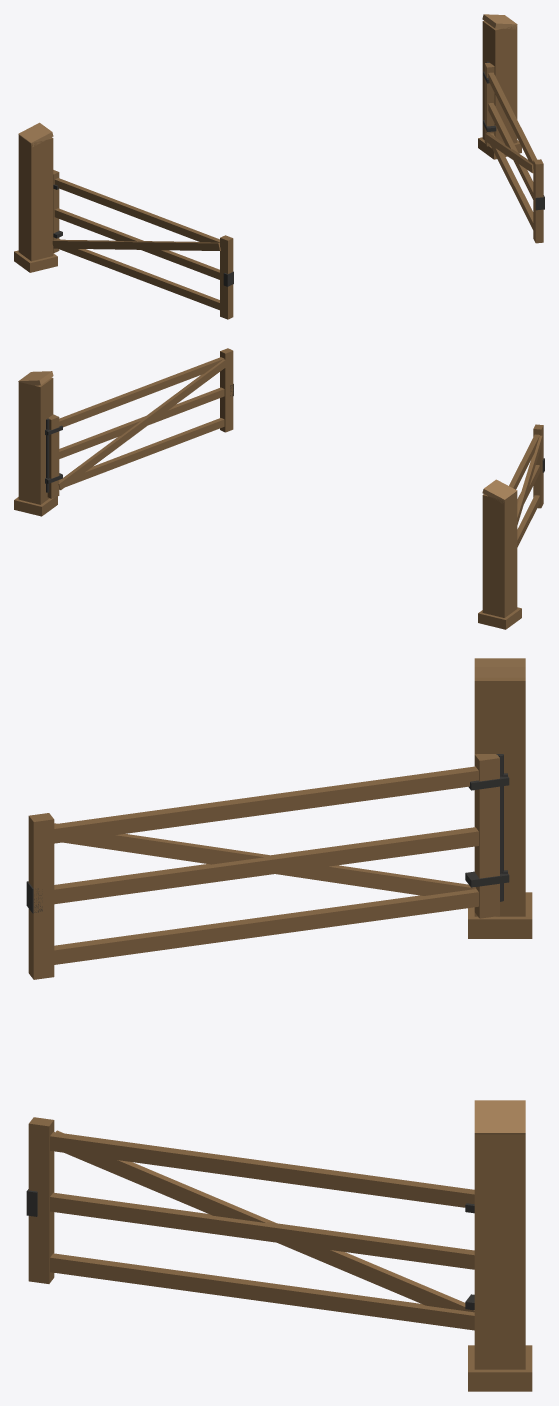
File: Gate_Assembly-v1.0.0.glb
3 views of the same model, one above another, from view 1: azimuth 30°, elevation 25°; view 2: azimuth 150°, elevation 25°; view 3: azimuth 270°, elevation 25° (orthographic). The views are drawn at different scales.
Parts seen in each view (by area): view 1: Gate_Wood, Gate_Cut_Wood, Gate_Dark_Iron; view 2: Gate_Wood, Gate_Cut_Wood, Gate_Dark_Iron; view 3: Gate_Wood, Gate_Cut_Wood, Gate_Dark_Iron.
Part boxes in pixels (x1,y1,x2,y2): Gate_Wood: [14, 20, 543, 319]; Gate_Cut_Wood: [18, 14, 517, 146]; Gate_Dark_Iron: [53, 61, 544, 286]; Gate_Wood: [14, 348, 543, 629]; Gate_Cut_Wood: [18, 371, 517, 503]; Gate_Dark_Iron: [45, 384, 544, 492]; Gate_Wood: [28, 677, 532, 1391]; Gate_Cut_Wood: [474, 658, 525, 1134]; Gate_Dark_Iron: [26, 754, 509, 1310].
Size of the model in its own units: 8.48 by 2.21 by 3.77.
